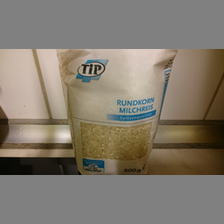rice: (55, 49, 179, 174)
